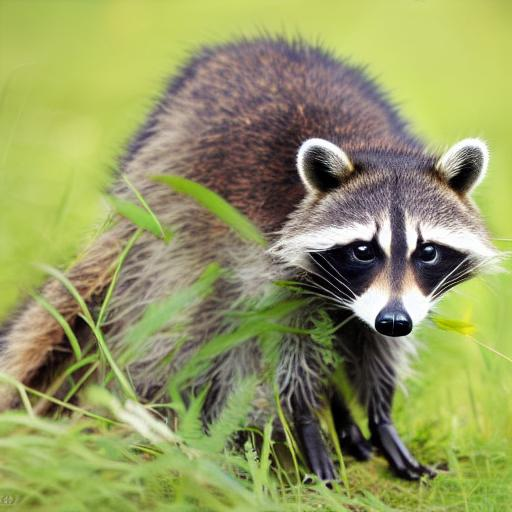raccoon: (1, 22, 512, 420)
